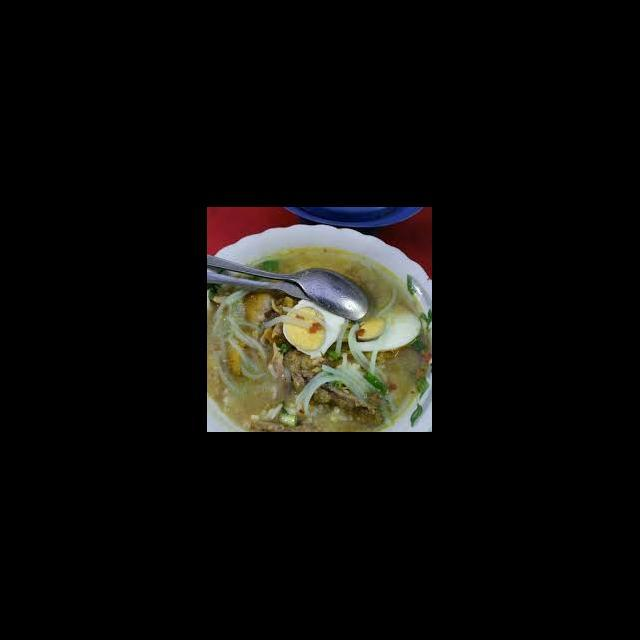Soto: (206, 225, 431, 432)
